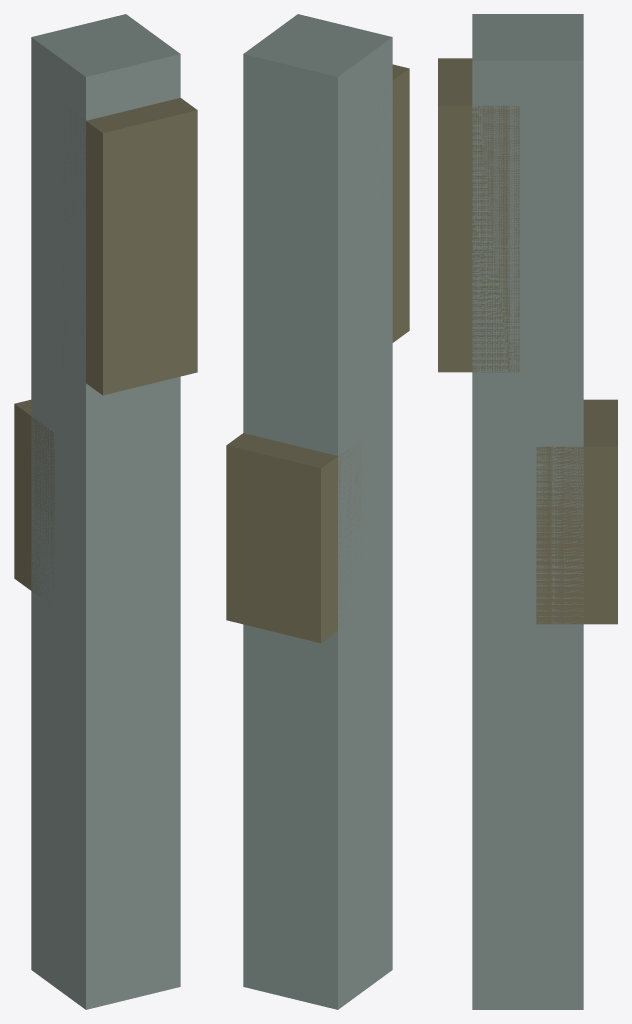
Rendered from SM_Semaforo_v2_Peatonal_LOD1.fbx.
3 renders of one model, left to right at view 1: azimuth 30°, elevation 25°; view 2: azimuth 150°, elevation 25°; view 3: azimuth 270°, elevation 25°, orthographic.
Visible parts, largest first — view 1: SM_urbano_extra_v22_LOD1; view 2: SM_urbano_extra_v22_LOD1; view 3: SM_urbano_extra_v22_LOD1.
Boxes of the visible parts, x1,y1,x2,y2 form: SM_urbano_extra_v22_LOD1: (14, 14, 197, 1009); SM_urbano_extra_v22_LOD1: (226, 14, 409, 1009); SM_urbano_extra_v22_LOD1: (438, 14, 617, 1009).
Bounding box in the file's own units: 0.34 × 3.2 × 0.55.
